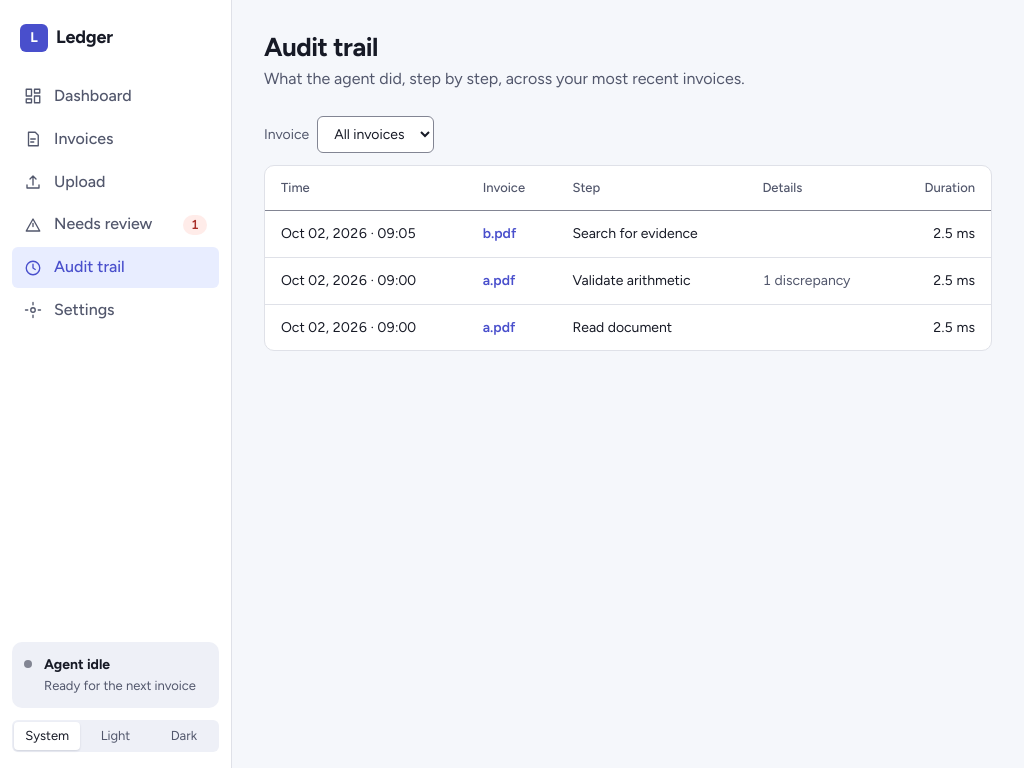
Test: AuditView › filters by invoice
The image size is (1024, 768).
Expected: the text "Search for evidence" is shown, [556,211,746,257]
Select "a.pdf" in the dropdown labelled "Invoice" at (376, 134), box [317,116,434,153]
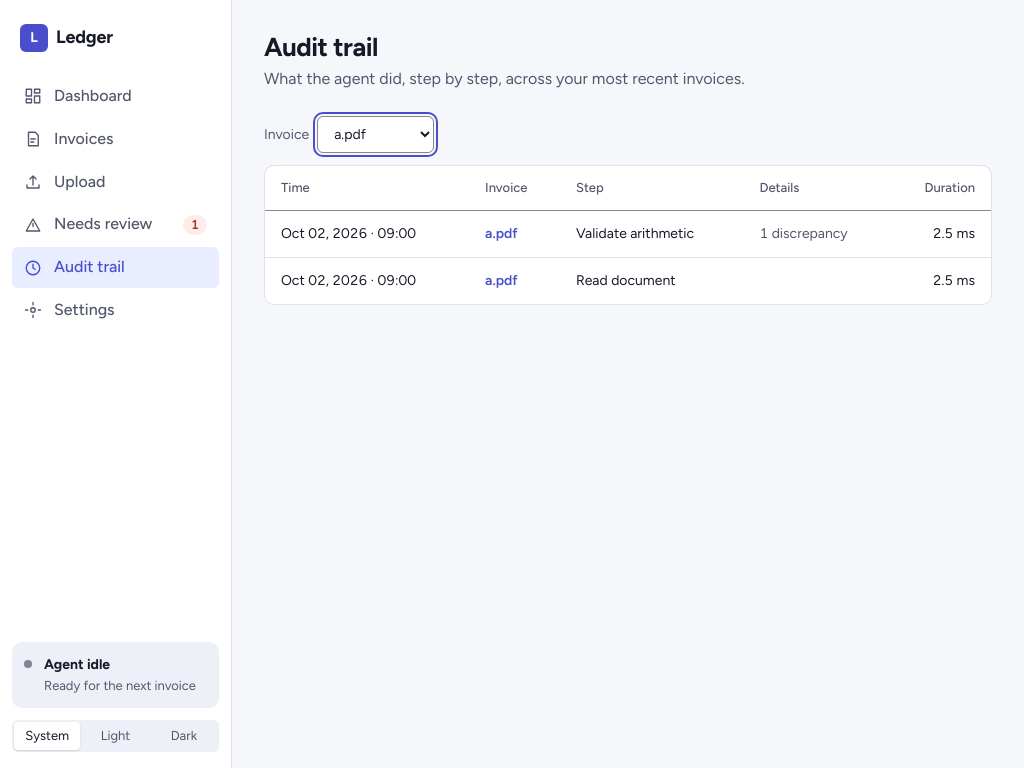
Expected: the number of rows is 3, [265,166,991,211]; [265,211,991,257]; [265,257,991,304]
